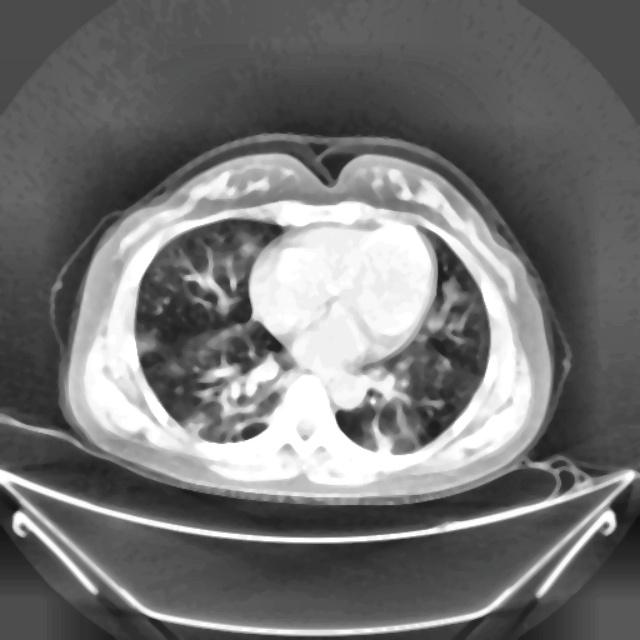covid: (49, 131, 572, 506)
